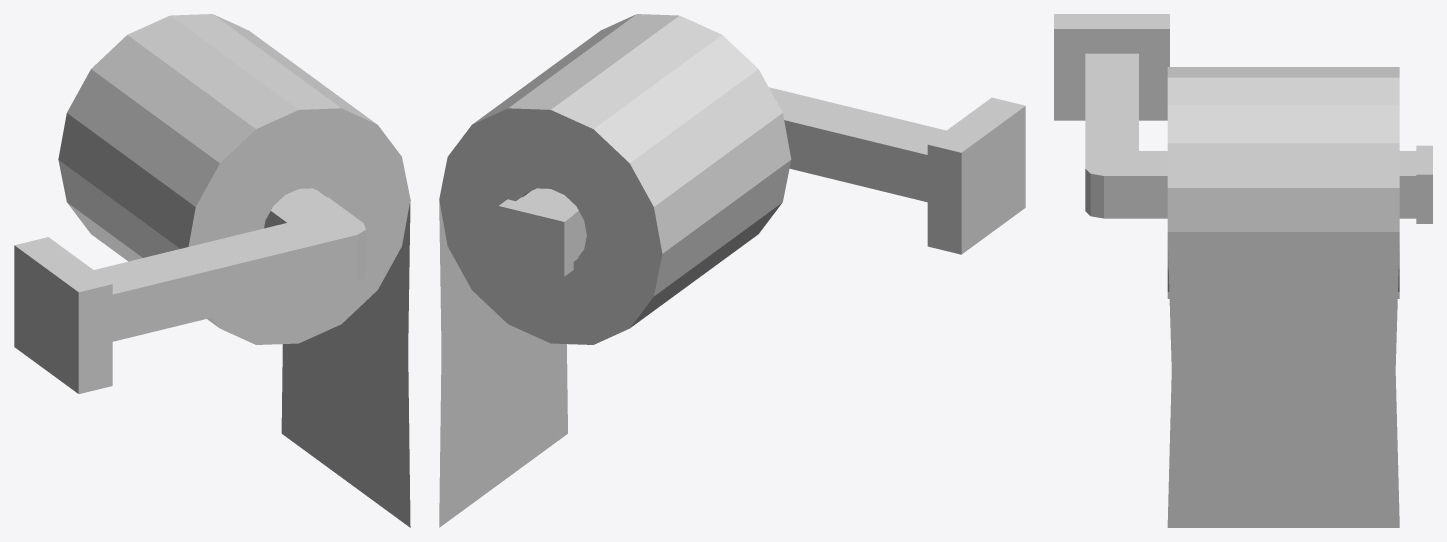
Rendered from PapelHigienico.fbx.
The picture shows the model from 3 angles, left to right: view 1: azimuth 30°, elevation 25°; view 2: azimuth 150°, elevation 25°; view 3: azimuth 270°, elevation 25°; orthographic projection. The views are drawn at different scales.
Parts seen in each view (by area): view 1: Cylinder, Cube; view 2: Cylinder, Cube; view 3: Cylinder, Cube.
Part boxes in pixels (x1,y1,x2,y2): Cylinder: [58, 14, 410, 527]; Cube: [14, 188, 365, 393]; Cylinder: [439, 14, 791, 527]; Cube: [498, 87, 1025, 276]; Cylinder: [1167, 67, 1399, 527]; Cube: [1054, 14, 1432, 223].
Bounding box in the file's own units: 16.97 × 18.39 × 19.83.
